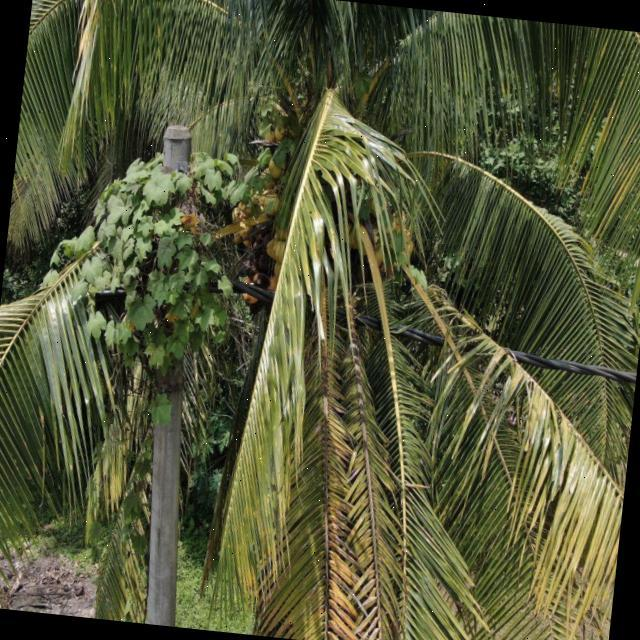critical vegetation: (51, 126, 262, 387)
